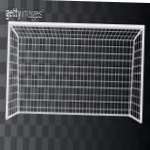goals: (3, 19, 148, 126)
